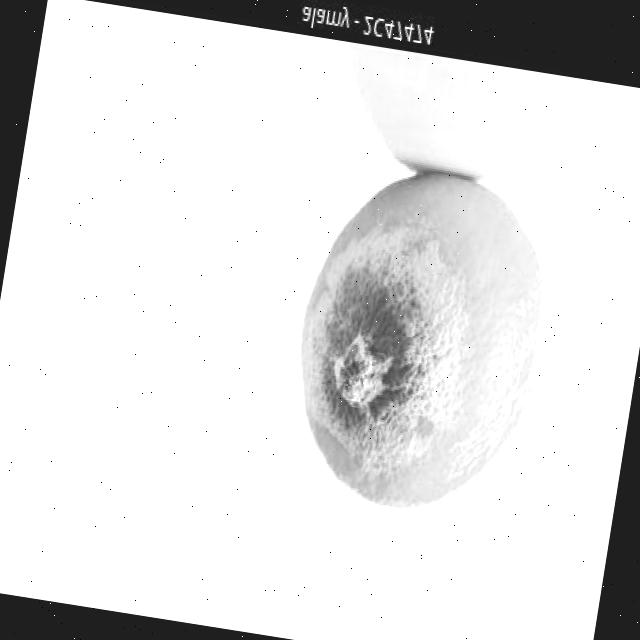Rotten: (274, 152, 562, 529)
